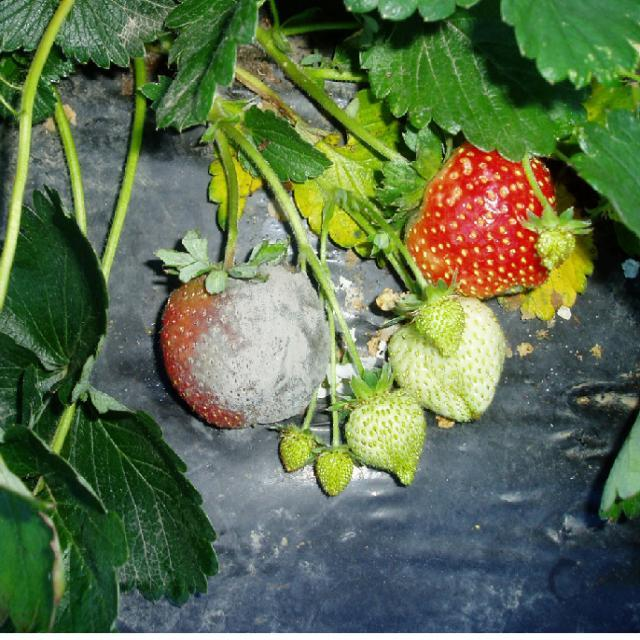Fruta sana: (406, 134, 574, 302)
Moho gris: (149, 262, 339, 428)
